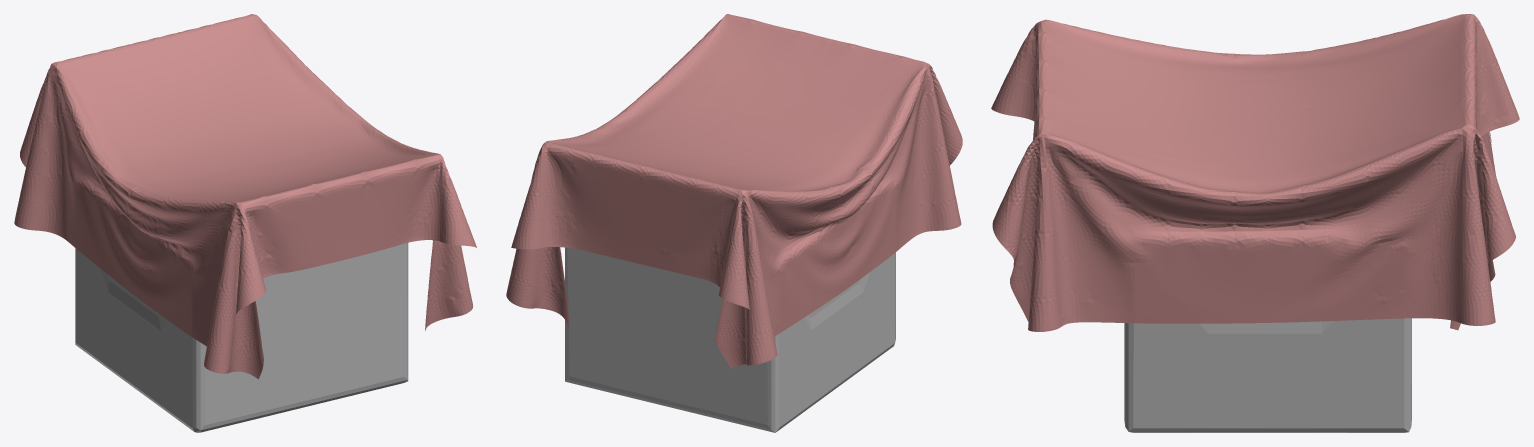
Rendered from level_3.glb.
The picture shows the model from 3 angles, left to right: view 1: azimuth 30°, elevation 25°; view 2: azimuth 150°, elevation 25°; view 3: azimuth 270°, elevation 25°; orthographic projection. The views are drawn at different scales.
Parts seen in each view (by area): view 1: world, object.obj; view 2: world, object.obj; view 3: world, object.obj.
Part boxes in pixels (x1,y1,x2,y2): world: (14,14,476,379); object.obj: (75,243,408,432); world: (506,14,962,368); object.obj: (565,247,895,432); world: (991,14,1519,331); object.obj: (1124,318,1411,432).
Bounding box in the file's own units: 0.3166 × 0.2962 × 0.465.
